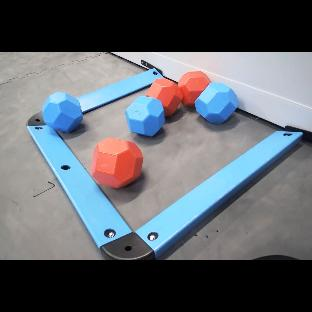Parking - Part: (27, 112, 302, 260), (38, 65, 271, 227), (77, 69, 162, 113)
